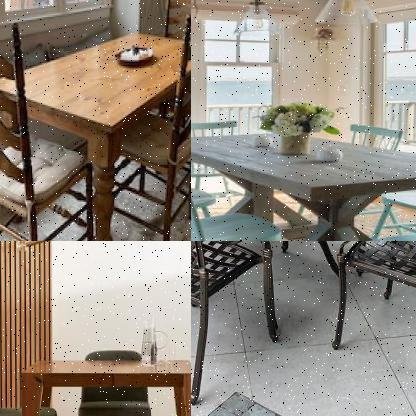table: (0, 29, 190, 240), (191, 125, 415, 240), (191, 241, 409, 348), (16, 355, 190, 415)
